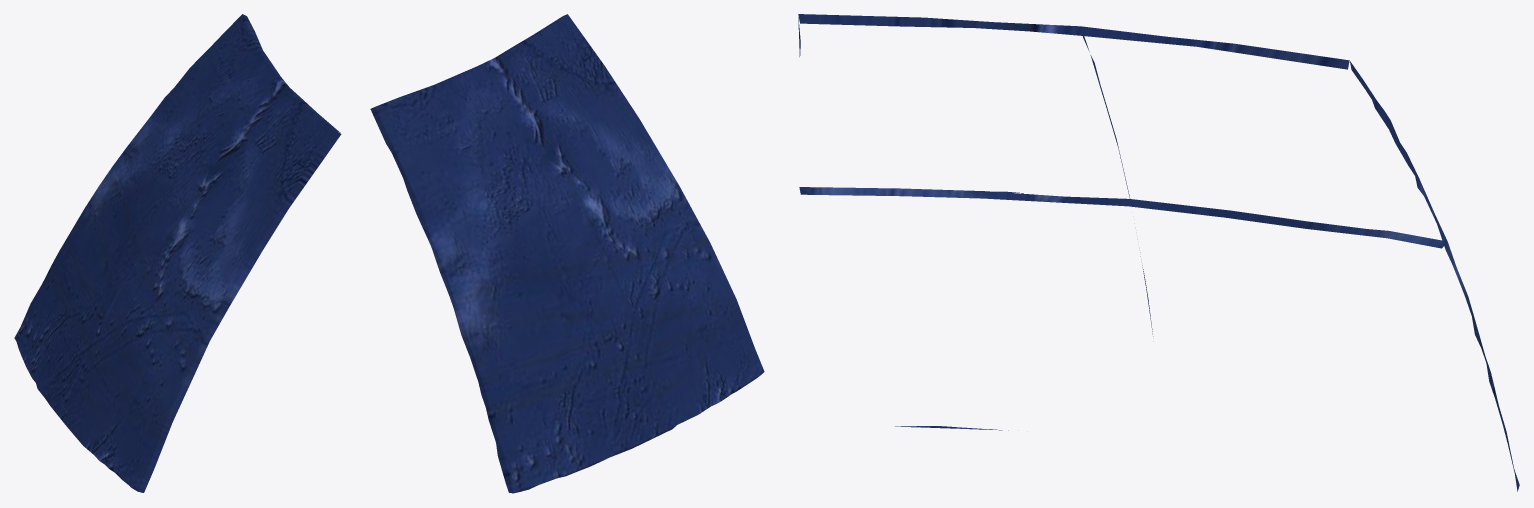
The picture shows the model from 3 angles, left to right: view 1: azimuth 30°, elevation 25°; view 2: azimuth 150°, elevation 25°; view 3: azimuth 270°, elevation 25°; orthographic projection. The views are drawn at different scales.
Bounding box in the file's own units: 1760006 × 2102758 × 2288168.
1 material, 1 textured.
